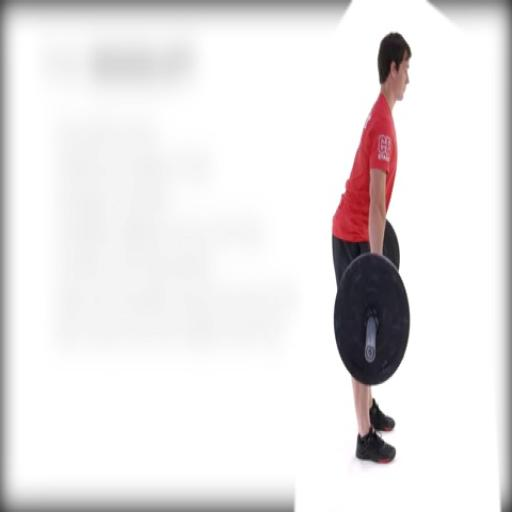exercise: (328, 30, 414, 466)
